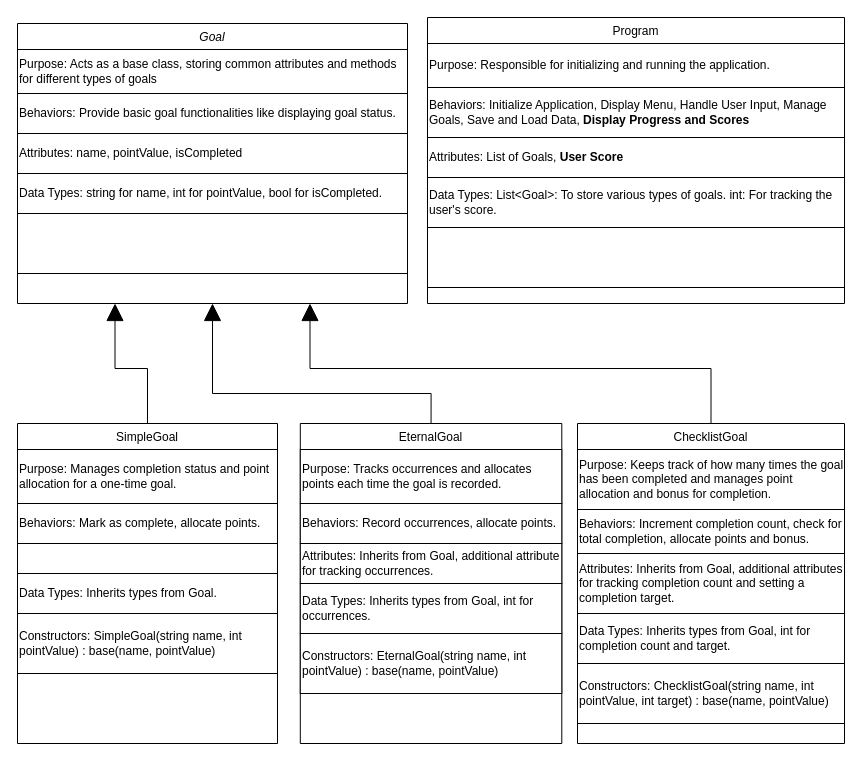
Some shapes in this 862 by 761 pixel diagram are drawn without their labels. Here are the shapes that lost their labels. From the top down, the centre of each, then its label:
At (x=212, y=243): "Constructors: Goal(string name, int pointValue)".
At (x=635, y=257): "Constructors: default constructor".
At (x=147, y=558): "Attributes: Inherits from Goal.".
